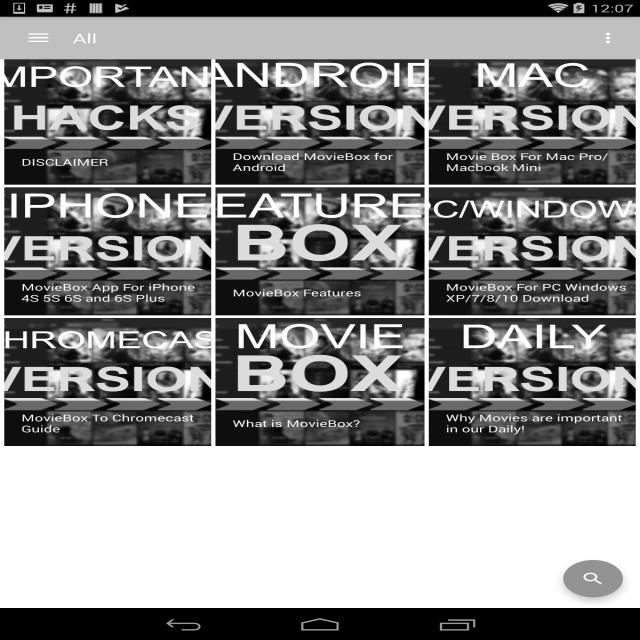ImageButton: (550, 552, 636, 605), (9, 19, 68, 57)
ImageView: (216, 56, 424, 185), (4, 56, 211, 185), (429, 56, 636, 185), (216, 188, 424, 316), (216, 318, 424, 446), (4, 188, 211, 316), (429, 188, 636, 316), (4, 318, 211, 446), (429, 318, 636, 446), (589, 22, 631, 54)
TextView: (216, 139, 424, 185), (4, 139, 211, 185), (429, 139, 636, 185), (216, 270, 424, 315), (216, 401, 424, 446), (4, 270, 211, 315), (429, 270, 636, 315), (4, 401, 211, 446), (429, 401, 636, 446), (73, 29, 97, 47)
